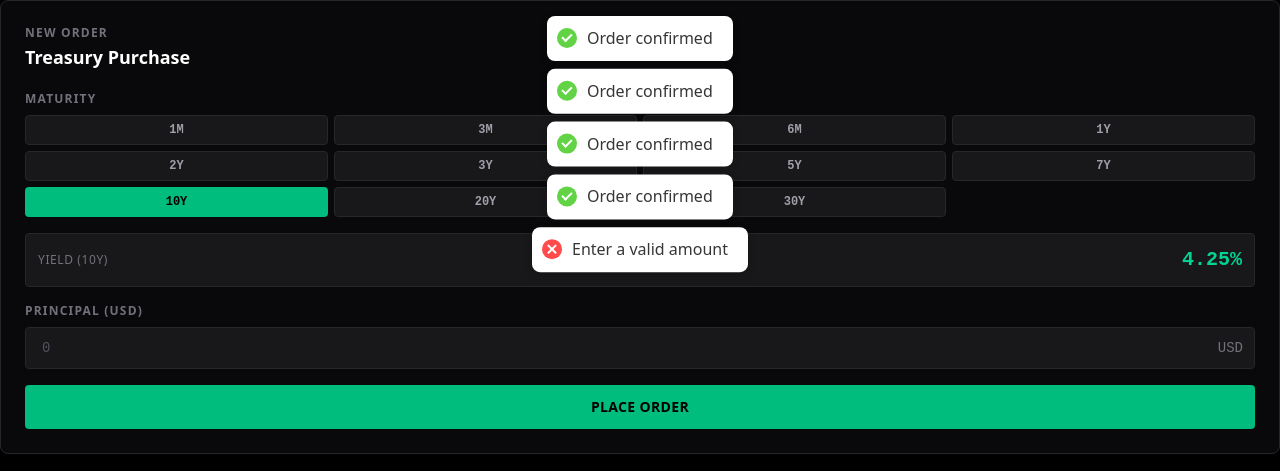
OrderForm › failed submission › shows a toast with the server error message
Step 1. Type "5000" into the number field → [640, 348], box [25,327,1255,369]
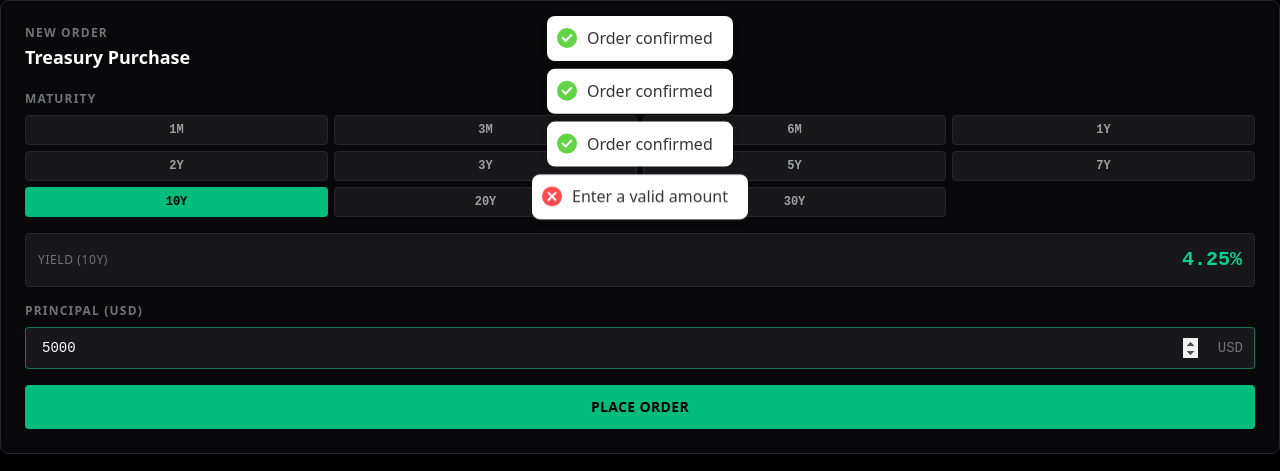
Step 2. Click the button "PLACE ORDER" → [640, 407], box [25,385,1255,429]
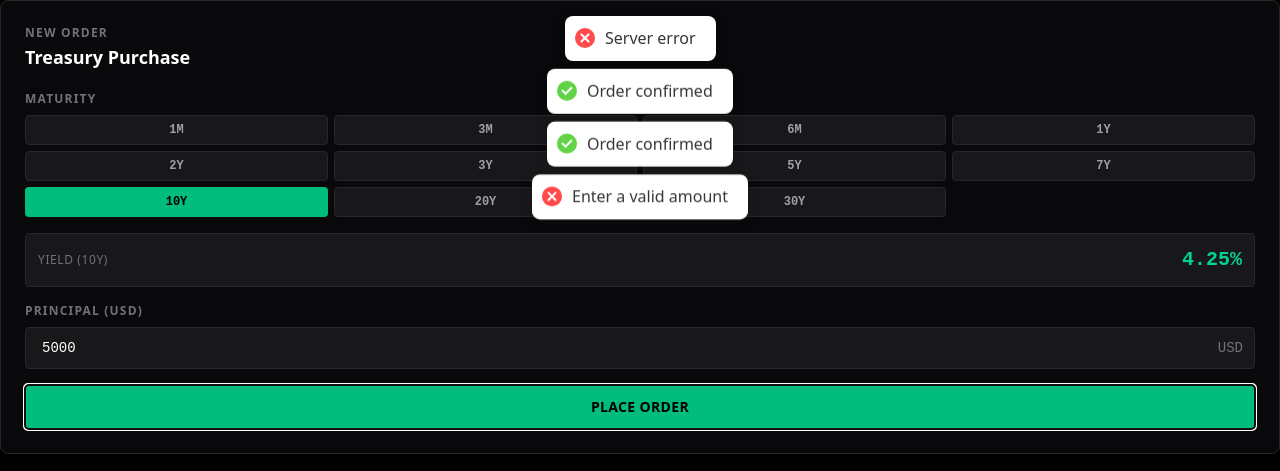
Now the text "Server error" is shown, box [605,28,695,49]
